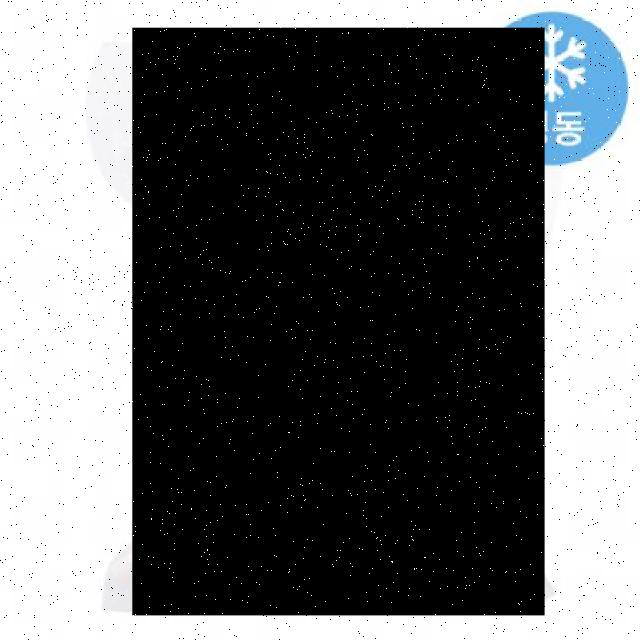Bacon: (133, 29, 544, 616)
